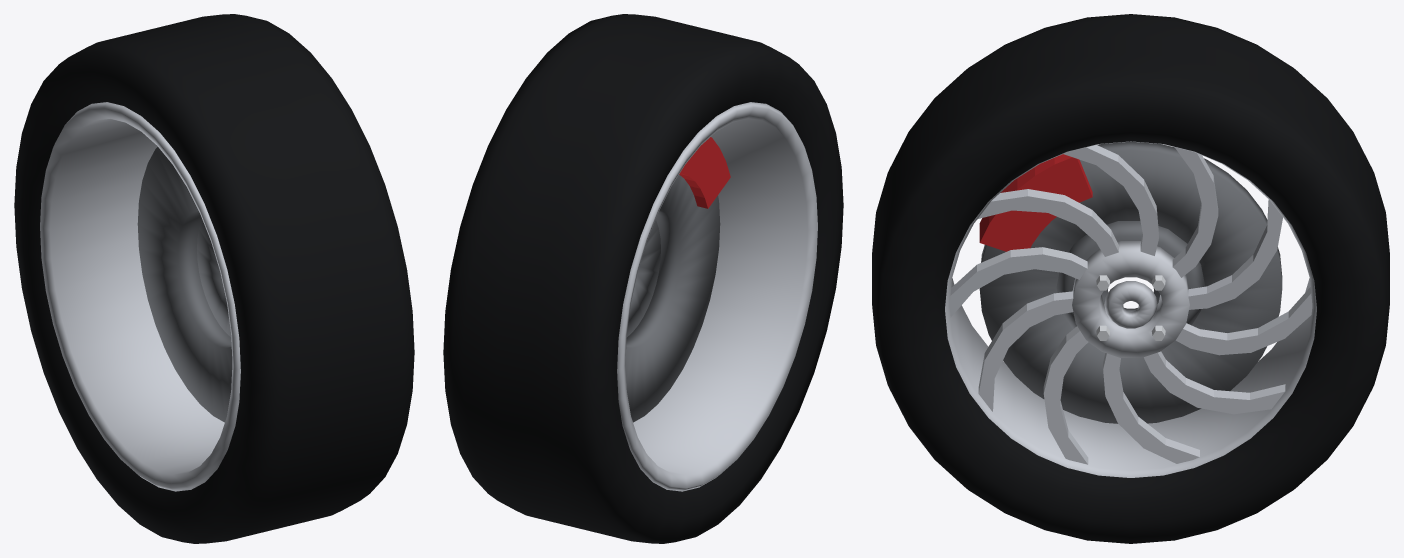
The model's file is w04_turbine_19.glb.
3 views of the same model, side by side, from view 1: azimuth 30°, elevation 25°; view 2: azimuth 150°, elevation 25°; view 3: azimuth 270°, elevation 25° (orthographic).
Visible parts, largest first — view 1: wheel, brake; view 2: wheel, brake; view 3: wheel, brake.
Part boxes in pixels (bbox=[...]): wheel: bbox=[14, 14, 414, 543]; brake: bbox=[137, 147, 232, 422]; wheel: bbox=[443, 14, 843, 543]; brake: bbox=[625, 137, 730, 422]; wheel: bbox=[872, 14, 1389, 543]; brake: bbox=[979, 141, 1282, 423].
Size of what is drawn, in the model's own units: 0.235 by 0.66 by 0.66.
